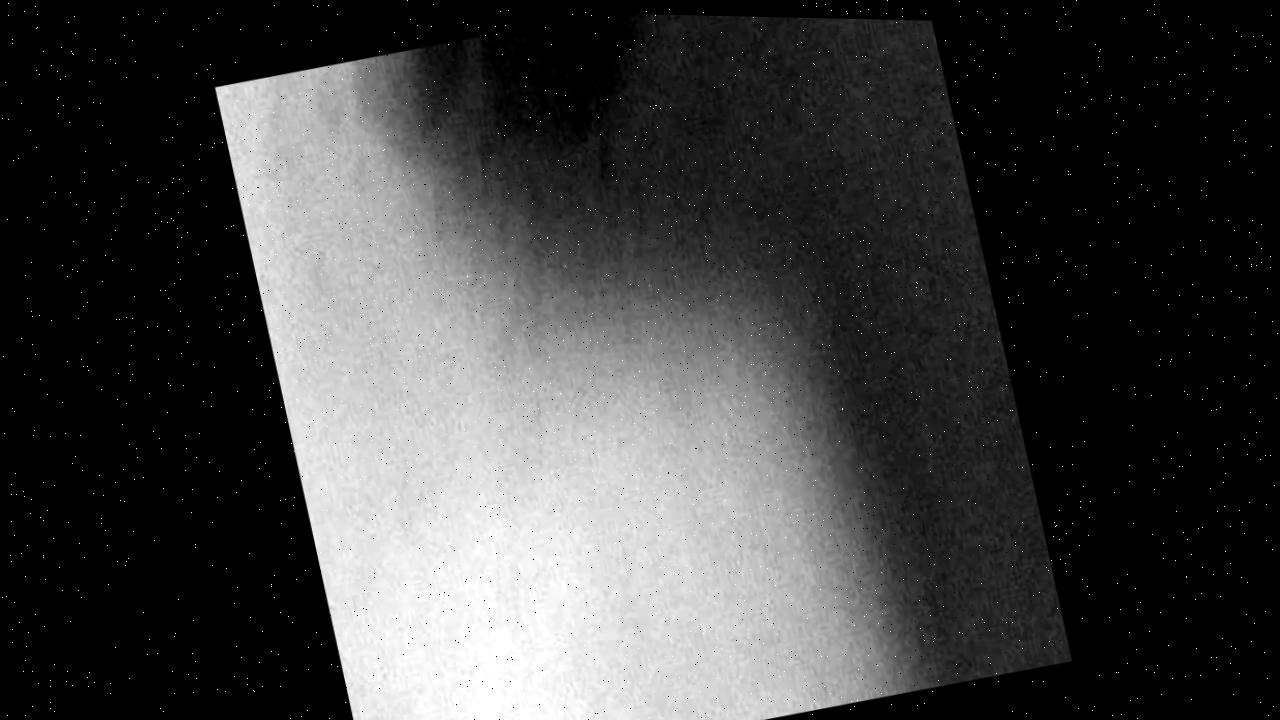drinks Stains: (310, 5, 695, 197)
